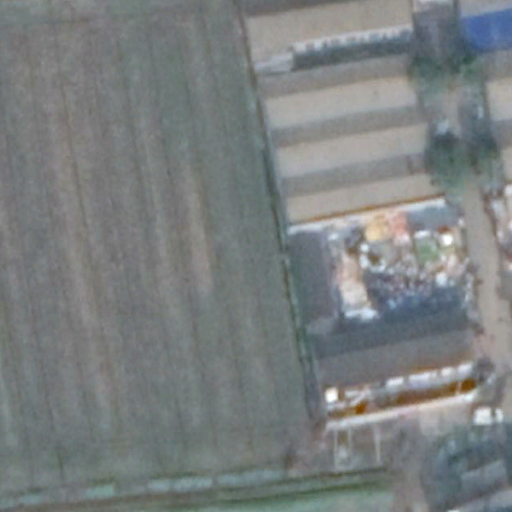msw: (359, 208, 469, 320)
